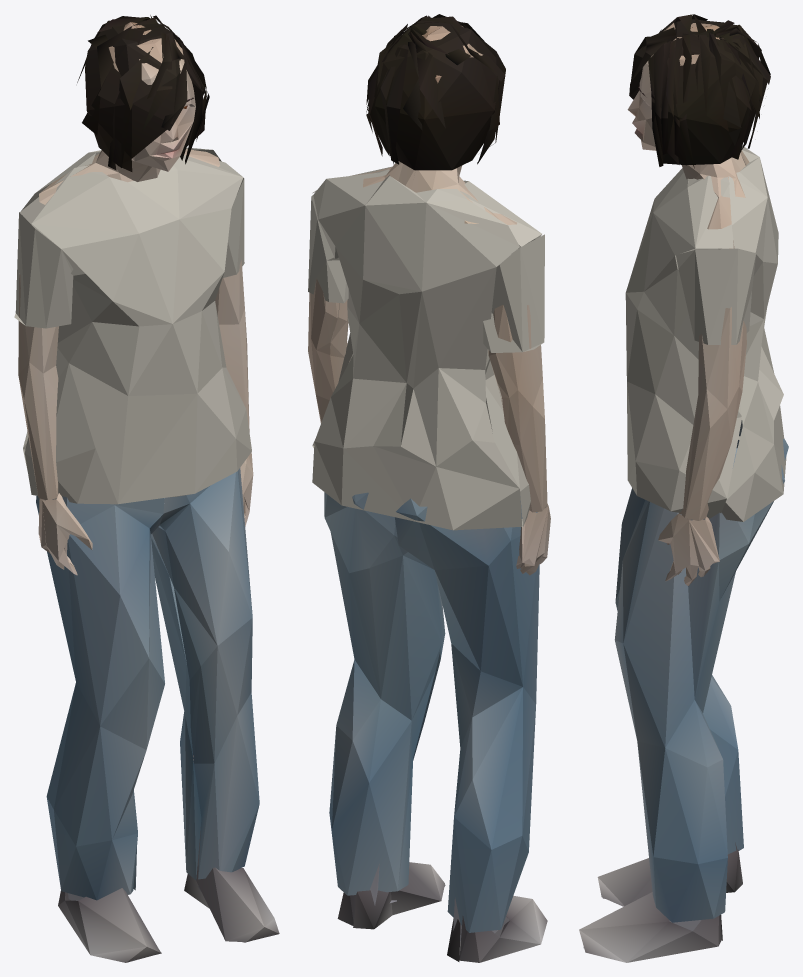
File: person-2-far.glb
3 views of the same model, side by side, from view 1: azimuth 30°, elevation 25°; view 2: azimuth 150°, elevation 25°; view 3: azimuth 270°, elevation 25° (orthographic). The views are drawn at different scales.
Visible parts, largest first — view 1: person-2 far; view 2: person-2 far; view 3: person-2 far.
Boxes of the visible parts, box(x1,y1,x2,y2) form: person-2 far: box(14, 15, 279, 962); person-2 far: box(308, 14, 550, 962); person-2 far: box(579, 14, 788, 962).
Bounding box in the file's own units: 0.4323 × 1.66 × 0.3508.
